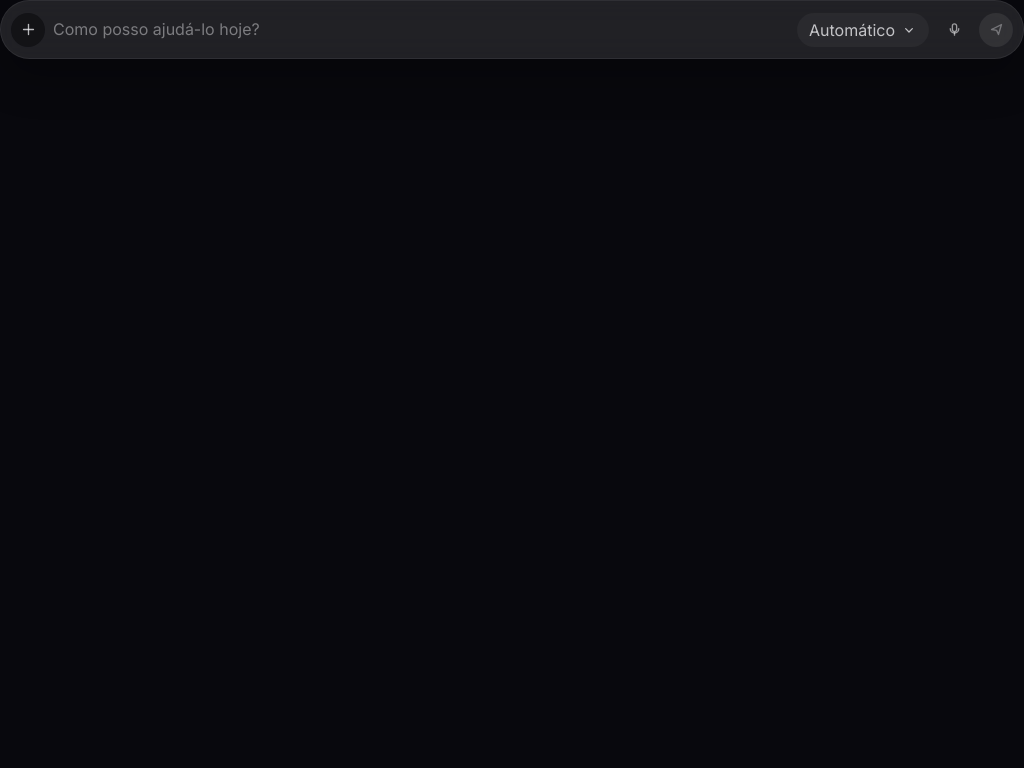
Scenario: CommandInputPanel › mostra erro útil quando backend local de voz está ausente
Click the button named "Entrada por voz". click: (954, 30)
box: [937, 13, 971, 47]
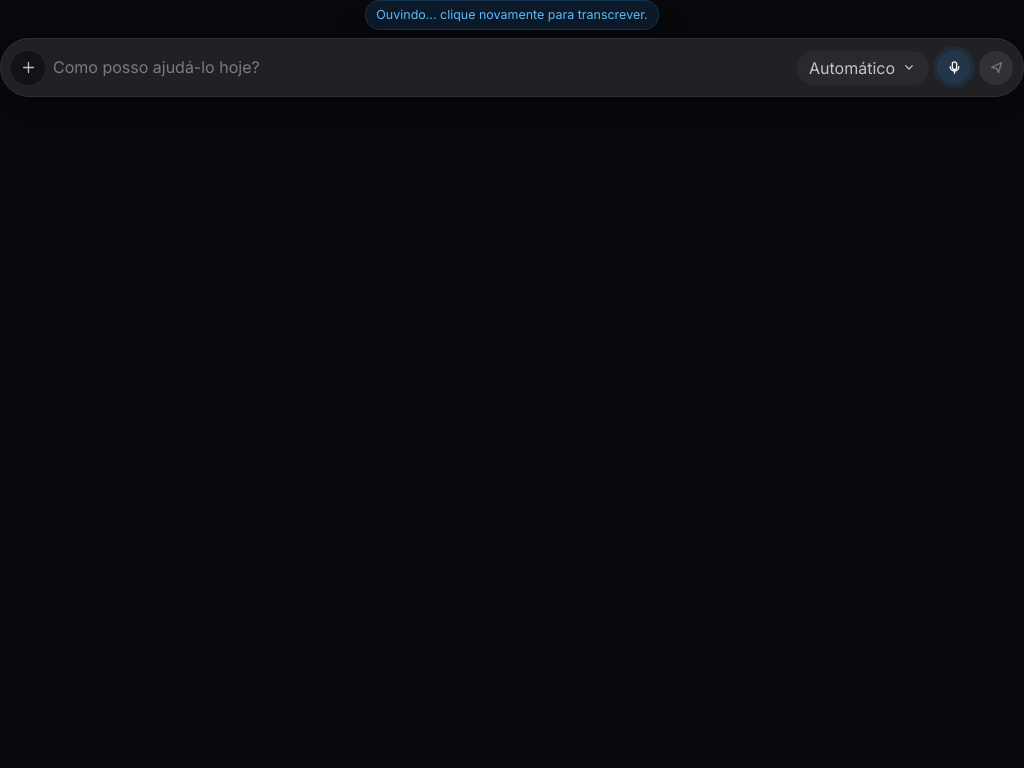
Click the button named "Parar transcrição de voz". click: (954, 67)
box: [937, 50, 971, 84]
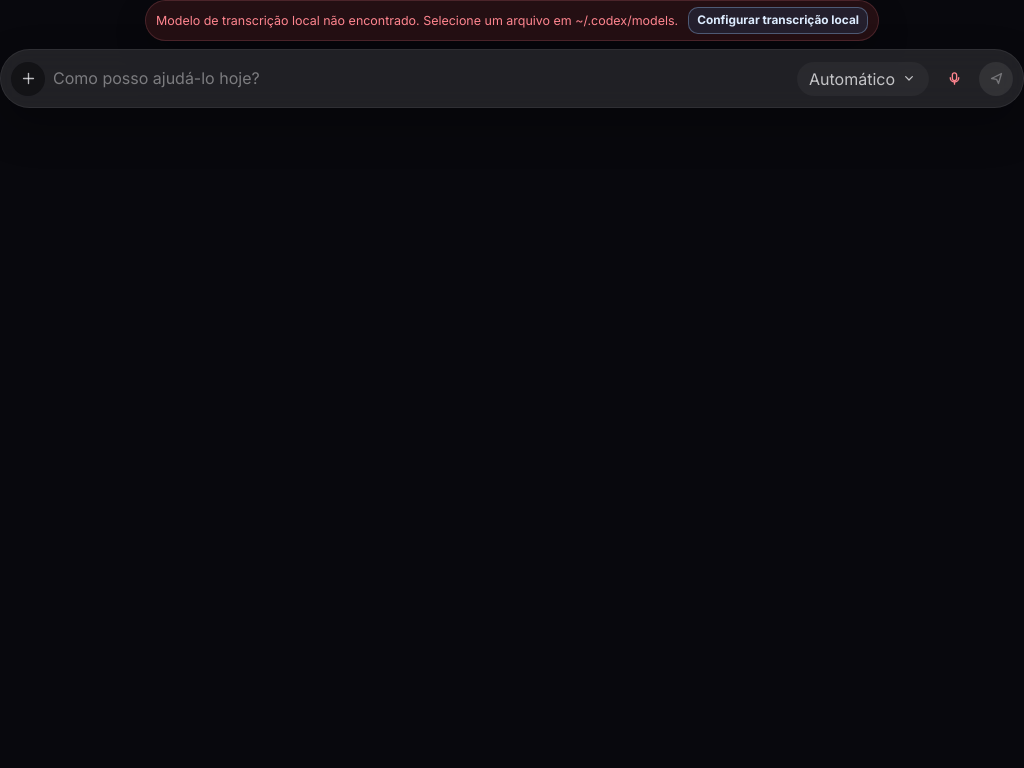
Check: the message shows "Modelo de transcrição local não encontrado", box [156, 13, 678, 28]
Click the button "Configurar transcrição local". click: (778, 20)
box: [688, 7, 868, 34]
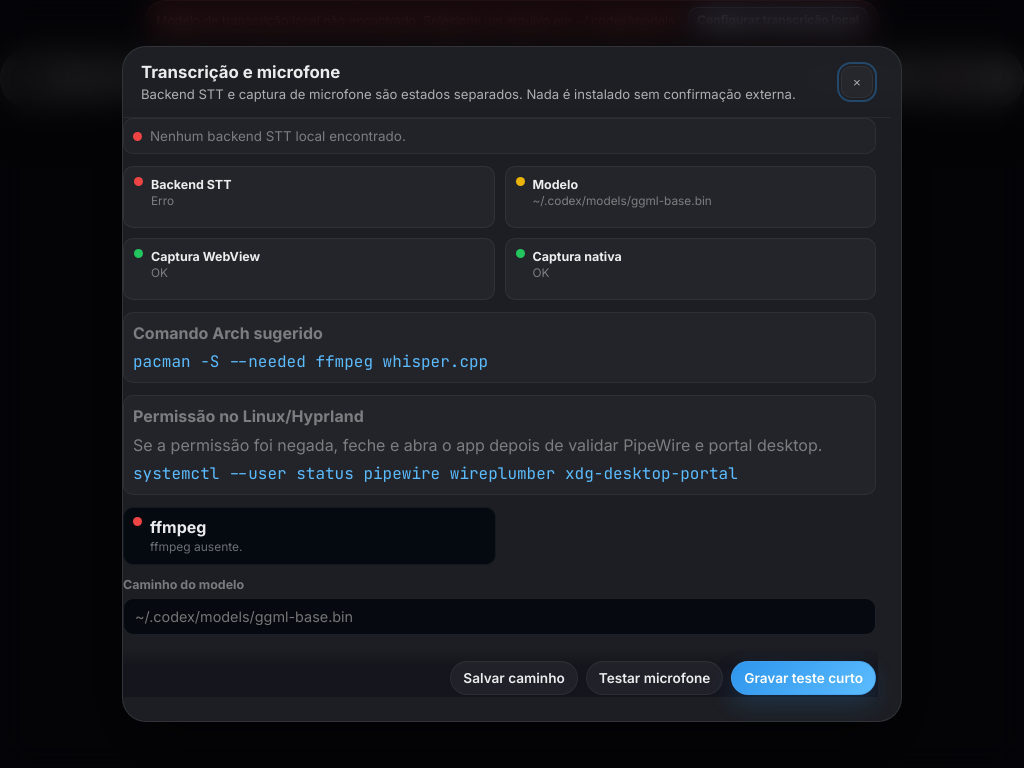
Check: the dialog "Transcrição e microfone" is shown
Check: the text "Backend STT" is shown, box [151, 177, 232, 192]
Check: the text "Captura WebView" is shown, box [151, 249, 260, 264]
